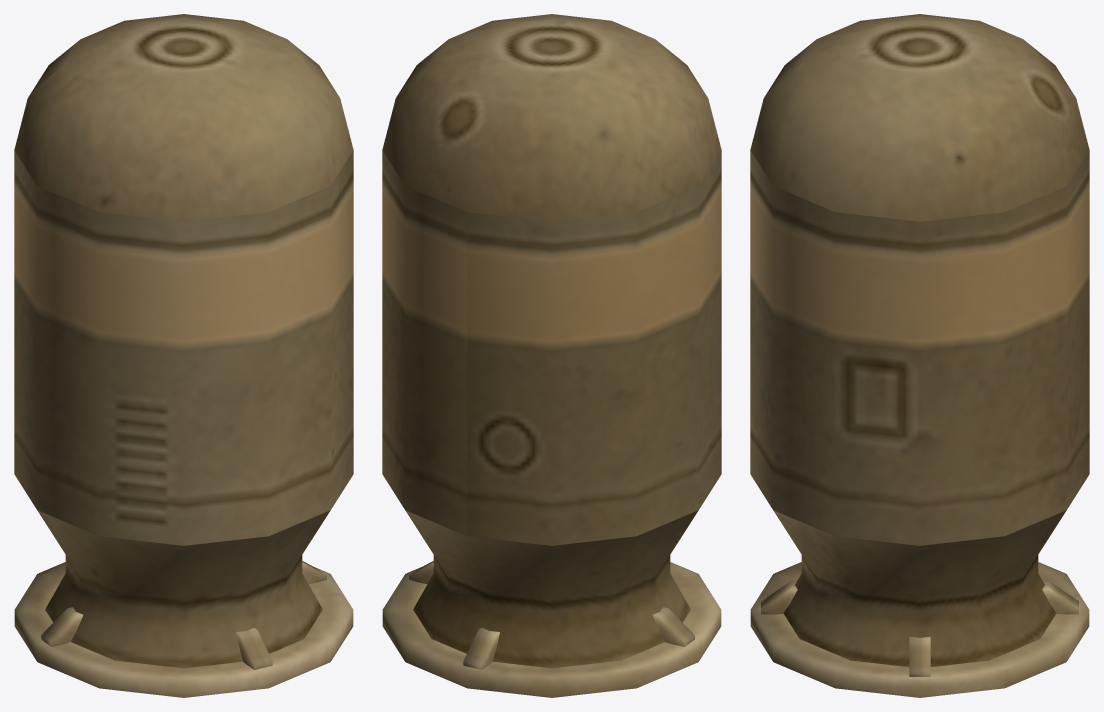
Rendered from Gas_Tank.FBX.
3 views of the same model, side by side, from view 1: azimuth 30°, elevation 25°; view 2: azimuth 150°, elevation 25°; view 3: azimuth 270°, elevation 25° (orthographic).
Parts seen in each view (by area): view 1: Gas_Tank; view 2: Gas_Tank; view 3: Gas_Tank.
Part boxes in pixels (<box>): Gas_Tank: <box>14,14,353,697</box>; Gas_Tank: <box>382,14,721,697</box>; Gas_Tank: <box>750,14,1089,697</box>.
Size of the model in its own units: 391 by 736 by 391.
